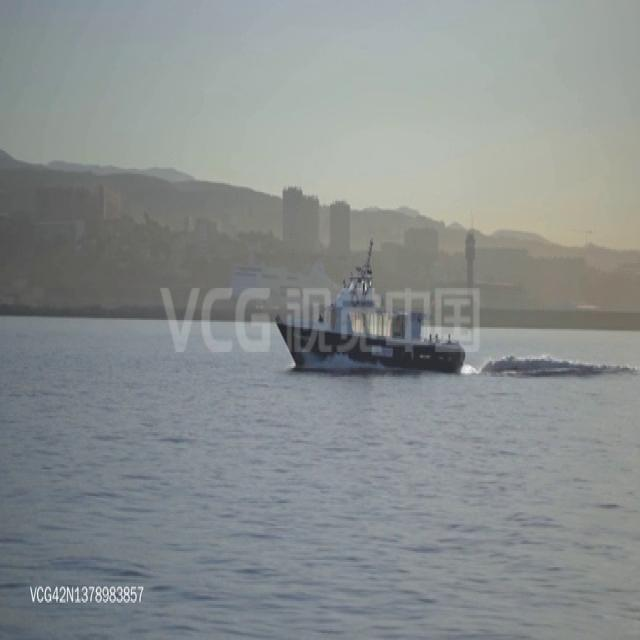houseboat: (276, 238, 458, 380)
